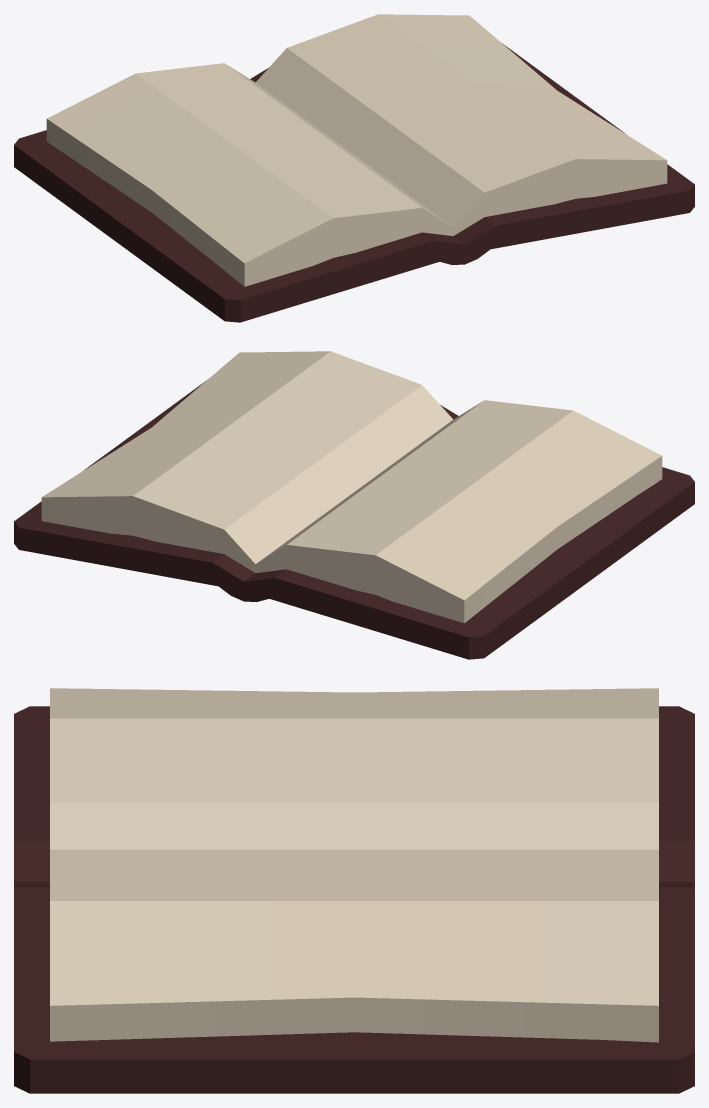
File: BookOpen_Flat.fbx
3 views of the same model, one above another, from view 1: azimuth 30°, elevation 25°; view 2: azimuth 150°, elevation 25°; view 3: azimuth 270°, elevation 25° (orthographic). The views are drawn at different scales.
Parts seen in each view (by area): view 1: BookOpen_Flat; view 2: BookOpen_Flat; view 3: BookOpen_Flat.
Boxes of the visible parts, x1,y1,x2,y2 form: BookOpen_Flat: (14,14,694,322); BookOpen_Flat: (14,351,694,659); BookOpen_Flat: (14,688,694,1093).
Size of the model in its own units: 105 by 15 by 85.6.
